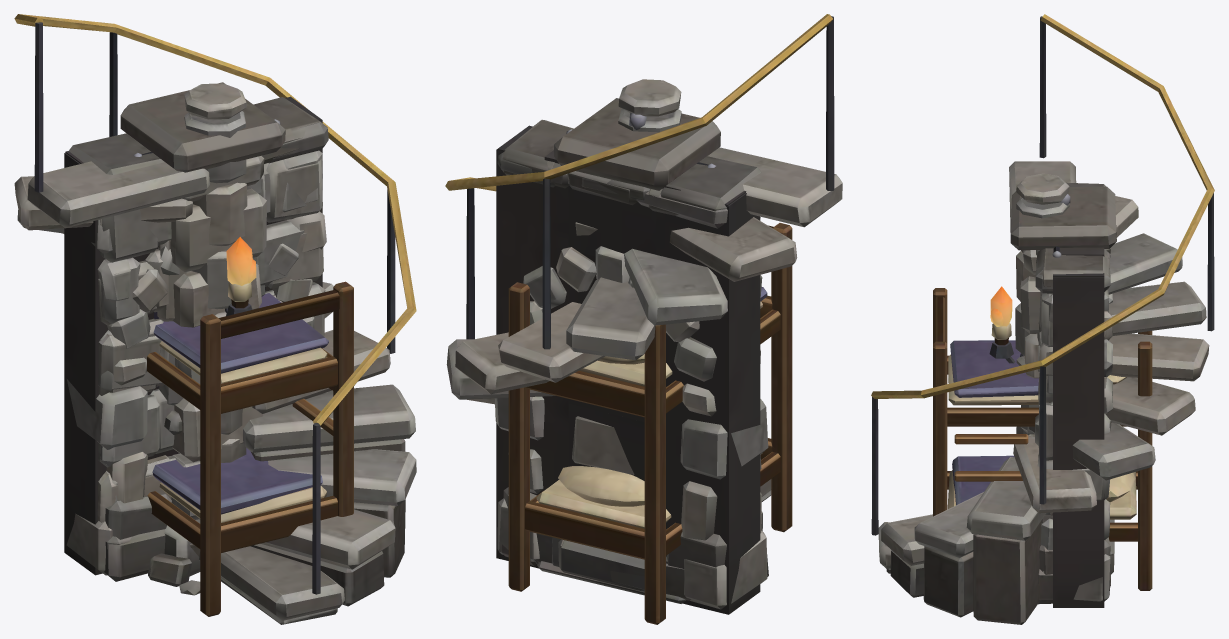
Rendered from env-watchtower.glb.
The picture shows the model from 3 angles, left to right: view 1: azimuth 30°, elevation 25°; view 2: azimuth 150°, elevation 25°; view 3: azimuth 270°, elevation 25°; orthographic projection. The views are drawn at different scales.
Parts seen in each view (by area): view 1: spiral-stairs, bunk, tower-slit, tower-doorway, tower-pillar, tower-wall, rubble, tower-wall-low, torch-sconce; view 2: spiral-stairs, tower-slit, bunk, tower-doorway, tower-pillar, tower-wall, tower-pillar-low, tower-wall-low; view 3: spiral-stairs, bunk, tower-slit, tower-pillar, tower-doorway, torch-sconce, tower-wall.
Boxes of the visible parts, x1,y1,x2,y2 form: spiral-stairs: [14, 14, 416, 624]; bunk: [147, 281, 353, 616]; tower-slit: [64, 120, 328, 575]; tower-doorway: [65, 97, 327, 575]; tower-pillar: [120, 82, 285, 556]; tower-wall: [65, 96, 321, 581]; rubble: [148, 519, 200, 595]; tower-wall-low: [96, 493, 171, 574]; torch-sconce: [226, 237, 256, 316]; spiral-stairs: [445, 14, 842, 501]; tower-slit: [496, 120, 761, 614]; bunk: [508, 223, 792, 624]; tower-doorway: [494, 119, 768, 609]; tower-pillar: [554, 98, 720, 591]; tower-wall: [497, 125, 768, 600]; tower-pillar-low: [558, 540, 644, 590]; tower-wall-low: [503, 487, 762, 568]; spiral-stairs: [871, 14, 1214, 624]; bunk: [933, 288, 1152, 590]; tower-slit: [1035, 250, 1110, 607]; tower-pillar: [1010, 186, 1116, 555]; tower-doorway: [1035, 182, 1112, 601]; torch-sconce: [989, 286, 1015, 363]; tower-wall: [1036, 248, 1110, 604].
Bounding box in the file's own units: 1.68 × 2.6 × 1.68.
2 materials, 2 textured.
